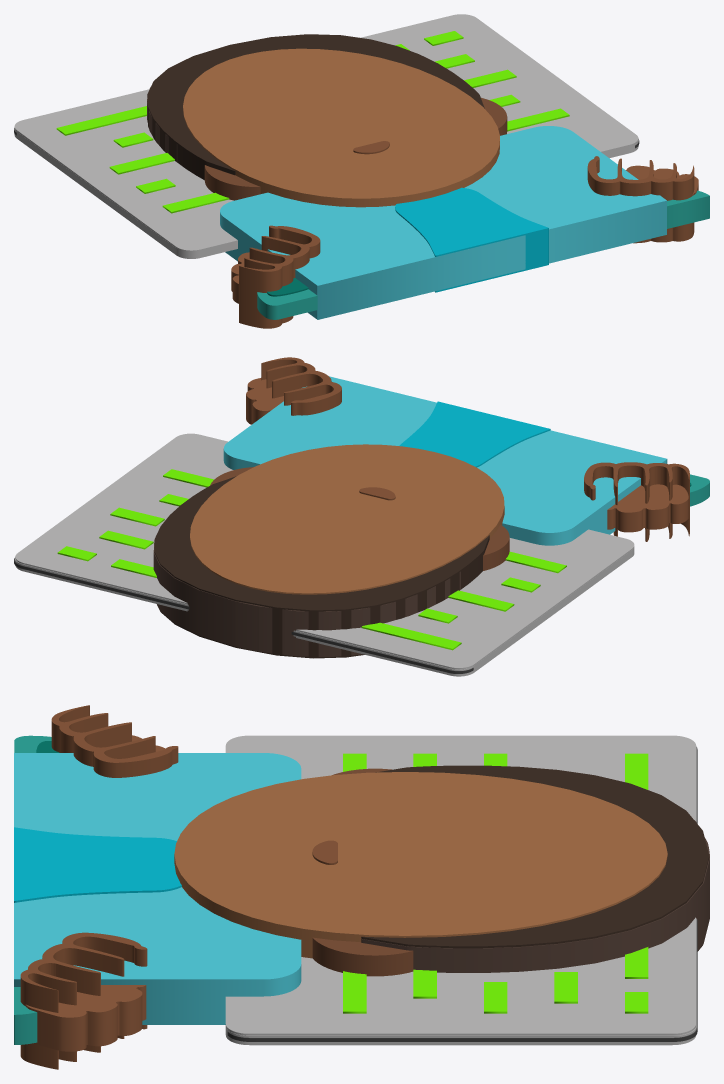
The model's file is emoji_u1f468_1f3fe_200d_1f4bb.glb.
The picture shows the model from 3 angles, top to bottom: view 1: azimuth 30°, elevation 25°; view 2: azimuth 150°, elevation 25°; view 3: azimuth 270°, elevation 25°; orthographic projection. The views are drawn at different scales.
Visible parts, largest first — view 1: emoji_u1f468_1f3fe_200d_1f4bb; view 2: emoji_u1f468_1f3fe_200d_1f4bb; view 3: emoji_u1f468_1f3fe_200d_1f4bb.
Boxes of the visible parts, x1,y1,x2,y2 form: emoji_u1f468_1f3fe_200d_1f4bb: [14, 14, 709, 328]; emoji_u1f468_1f3fe_200d_1f4bb: [14, 357, 709, 676]; emoji_u1f468_1f3fe_200d_1f4bb: [14, 705, 709, 1069].
Size of the model in its own units: 0.0339 by 0.0042 by 0.0333.
